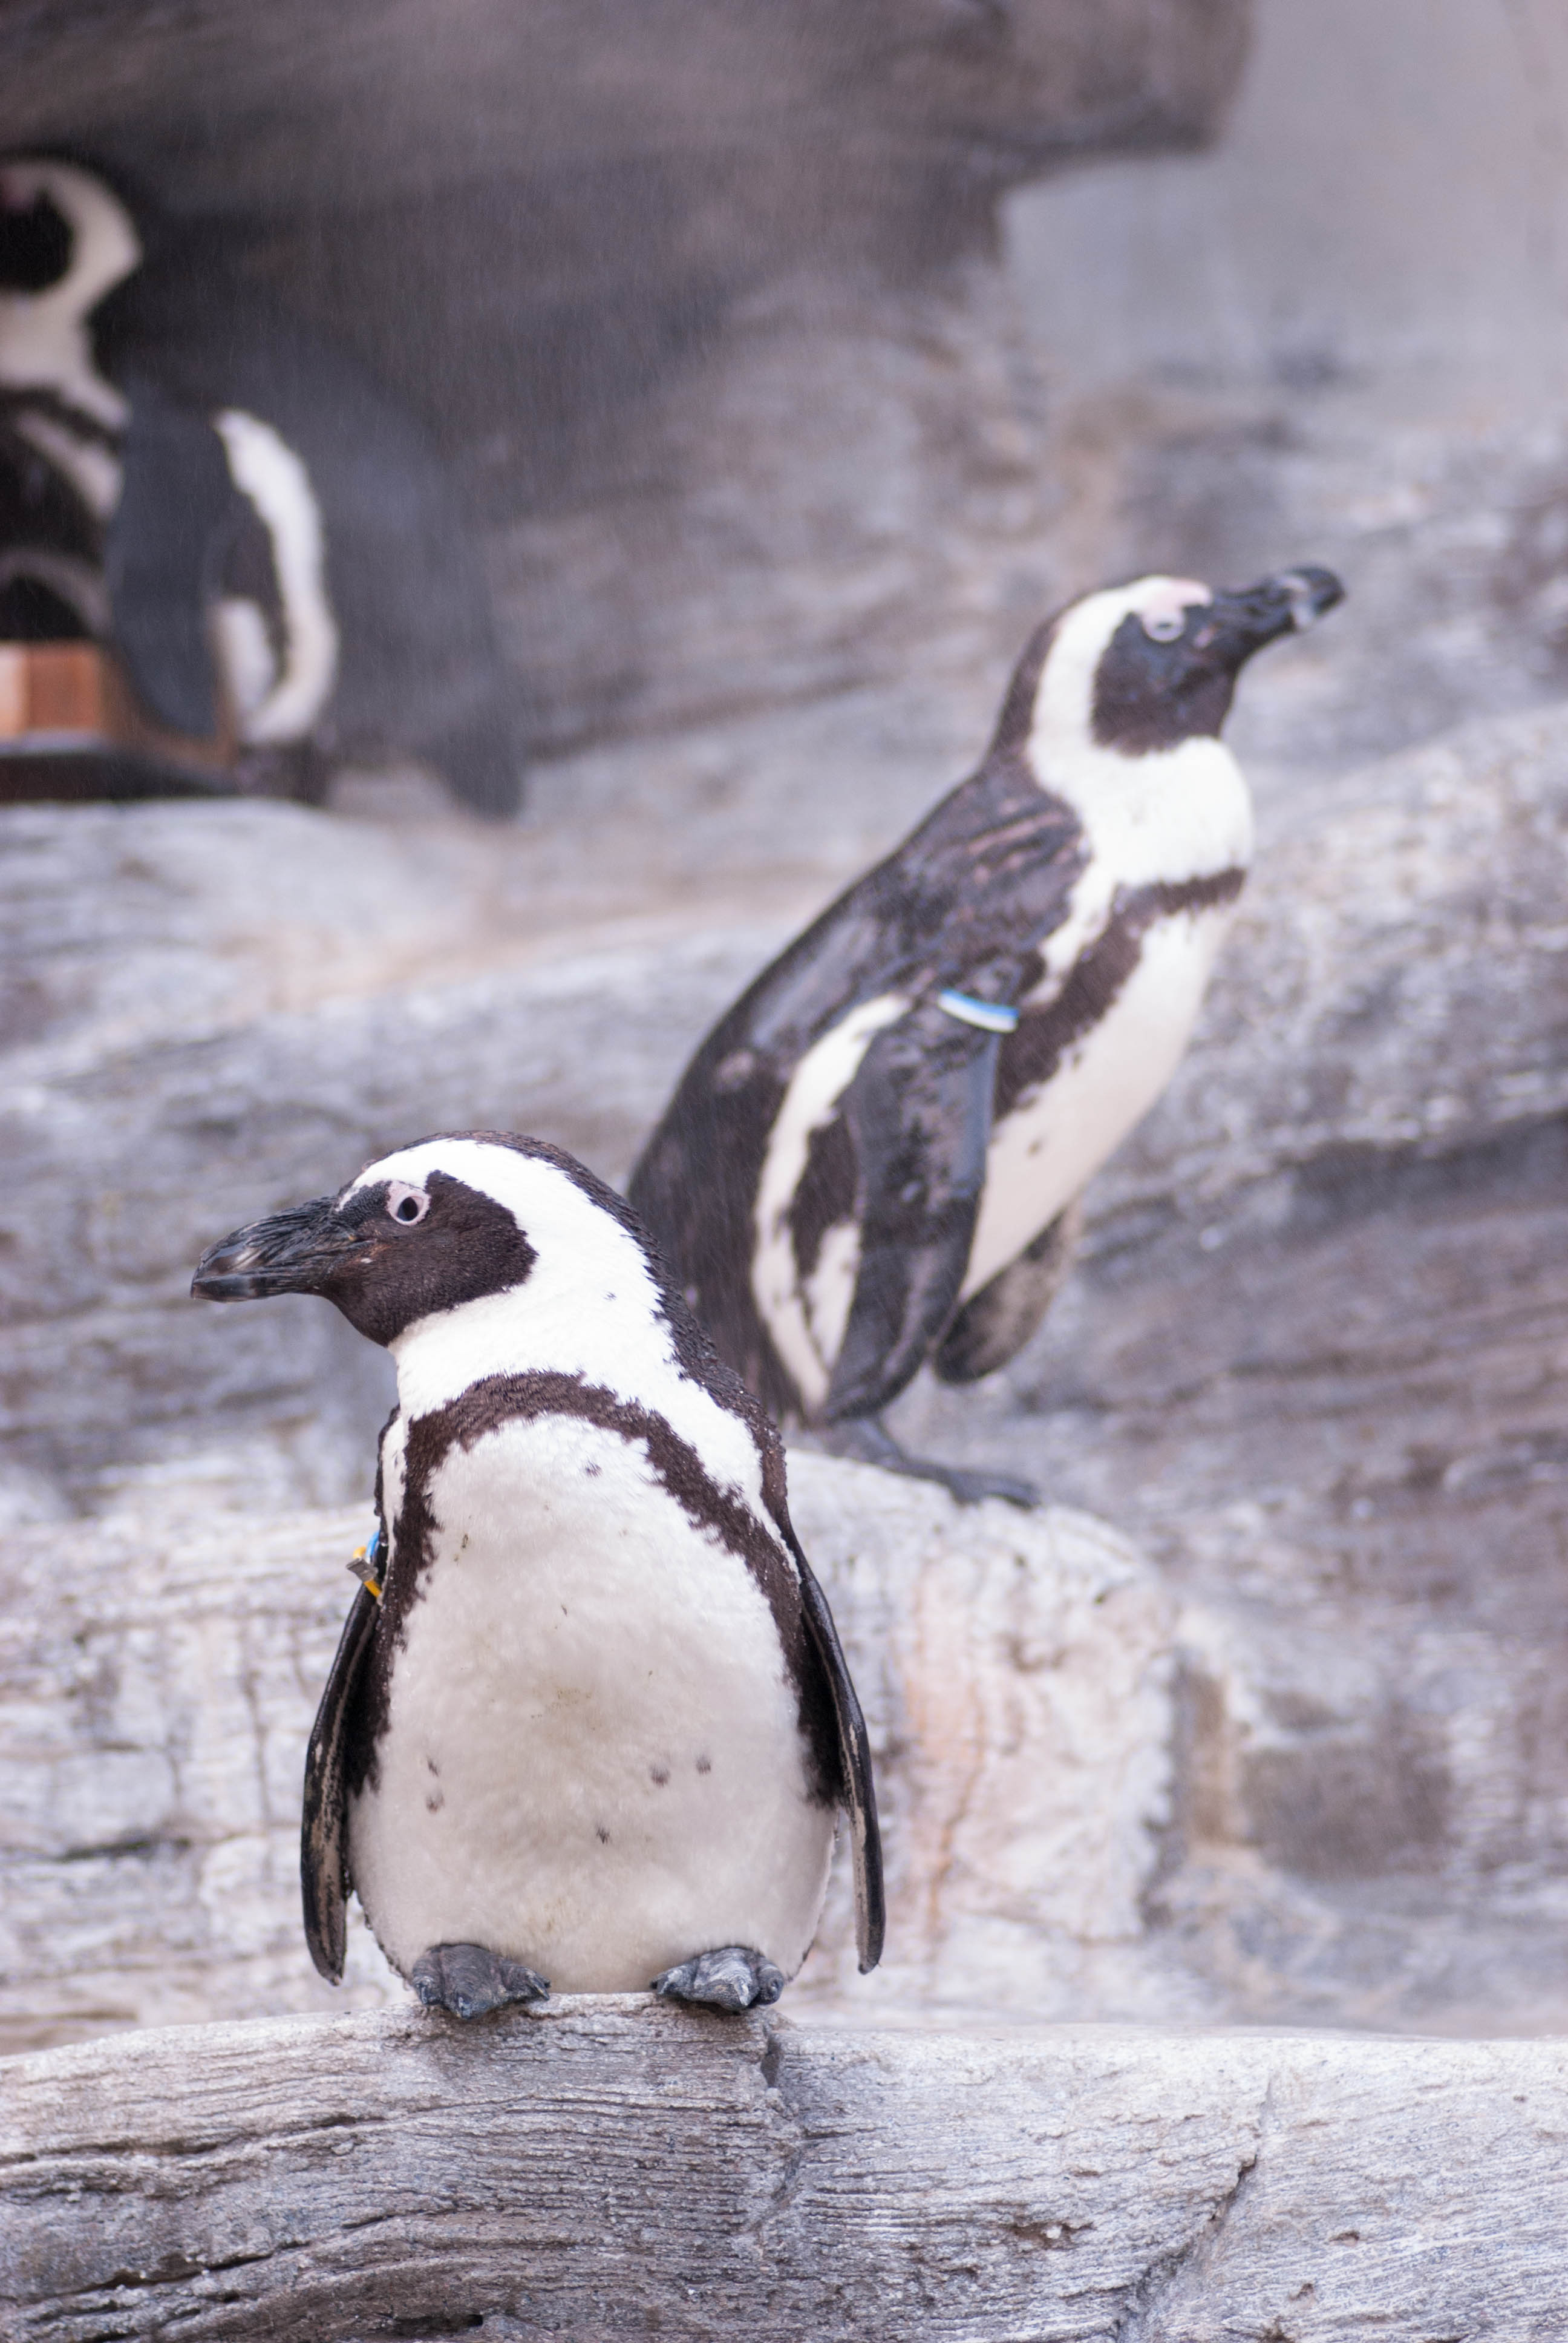penguin: (184, 1108, 899, 2054), (604, 553, 1349, 1438)
